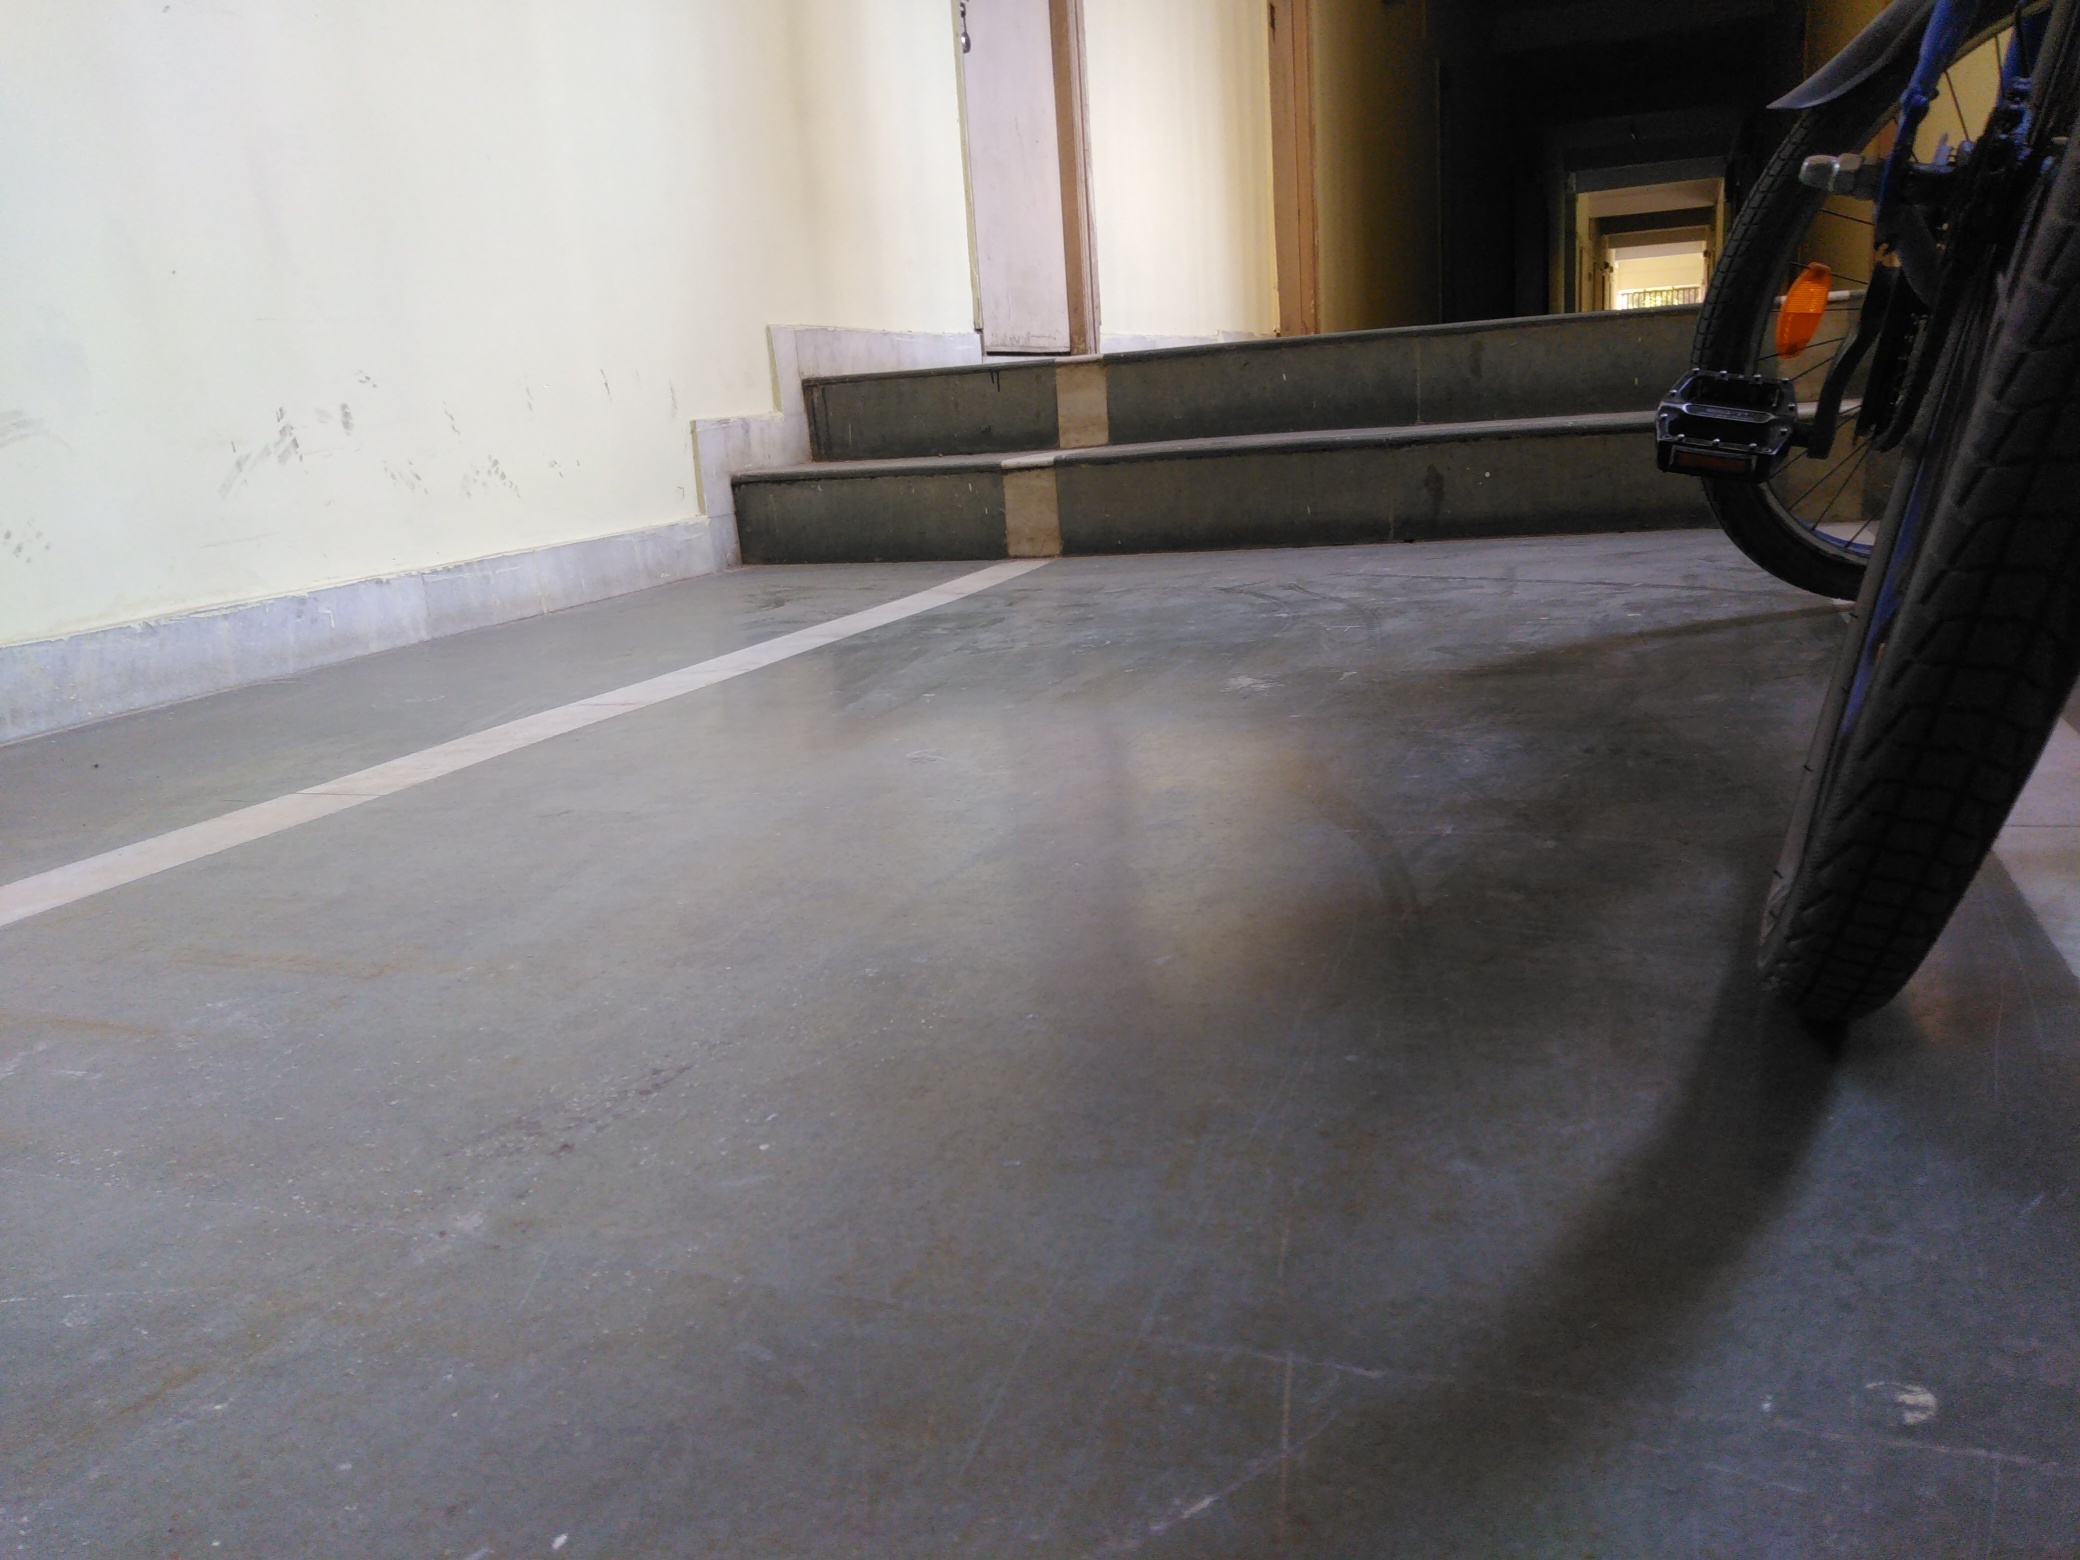stairs_up: (724, 279, 1898, 544)
